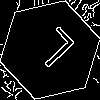L: (25, 25, 77, 77)
